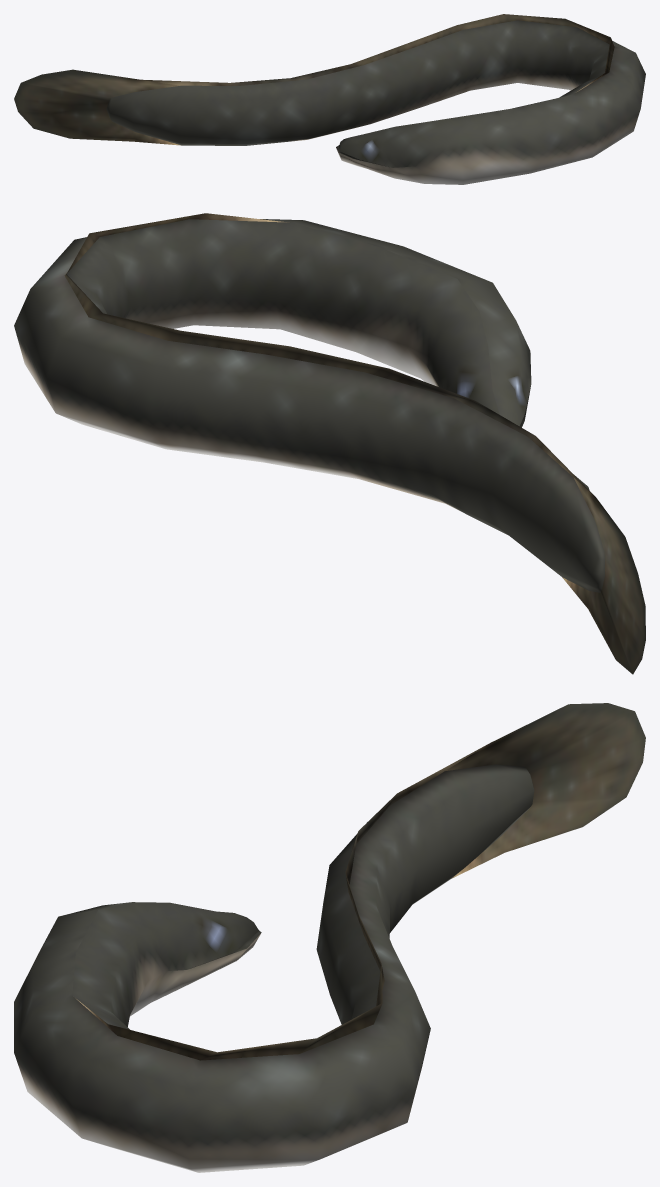
Rendered from FishAnguila.fbx.
The picture shows the model from 3 angles, top to bottom: view 1: azimuth 30°, elevation 25°; view 2: azimuth 150°, elevation 25°; view 3: azimuth 270°, elevation 25°; orthographic projection. The views are drawn at different scales.
Visible parts, largest first — view 1: FishAnguila; view 2: FishAnguila; view 3: FishAnguila.
Part boxes in pixels (x1=…): FishAnguila: x1=14, y1=14, x2=645, y2=184; FishAnguila: x1=14, y1=213, x2=645, y2=674; FishAnguila: x1=14, y1=703, x2=645, y2=1172.
Bounding box in the file's own units: 0.4664 × 0.0702 × 0.3083.
